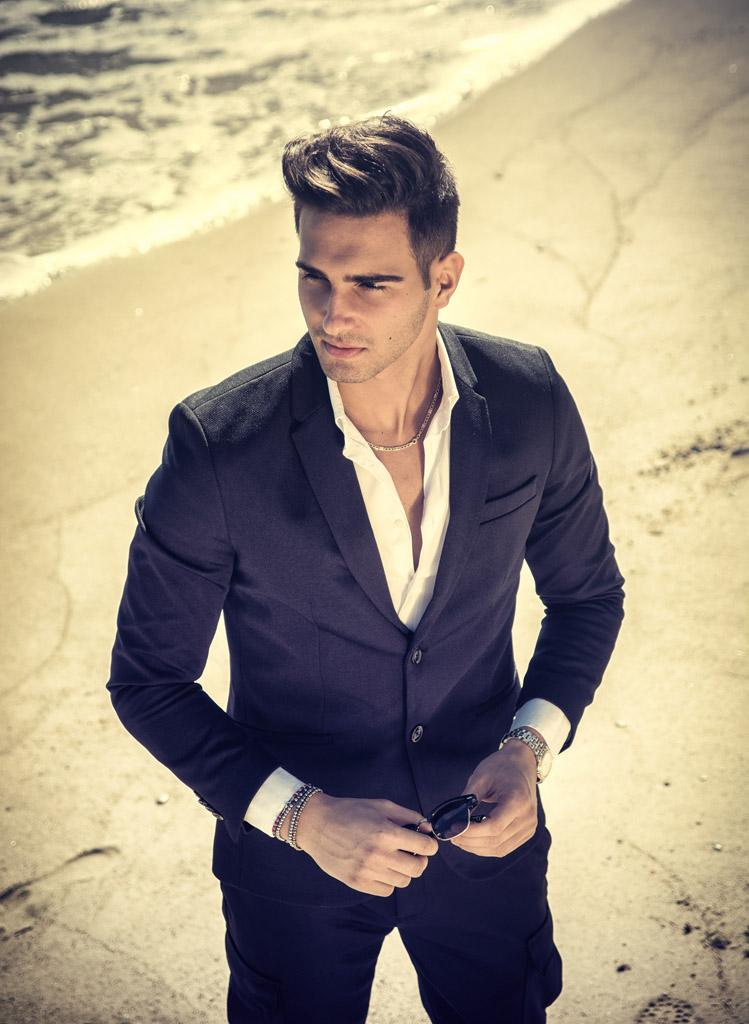person: (102, 114, 583, 970)
